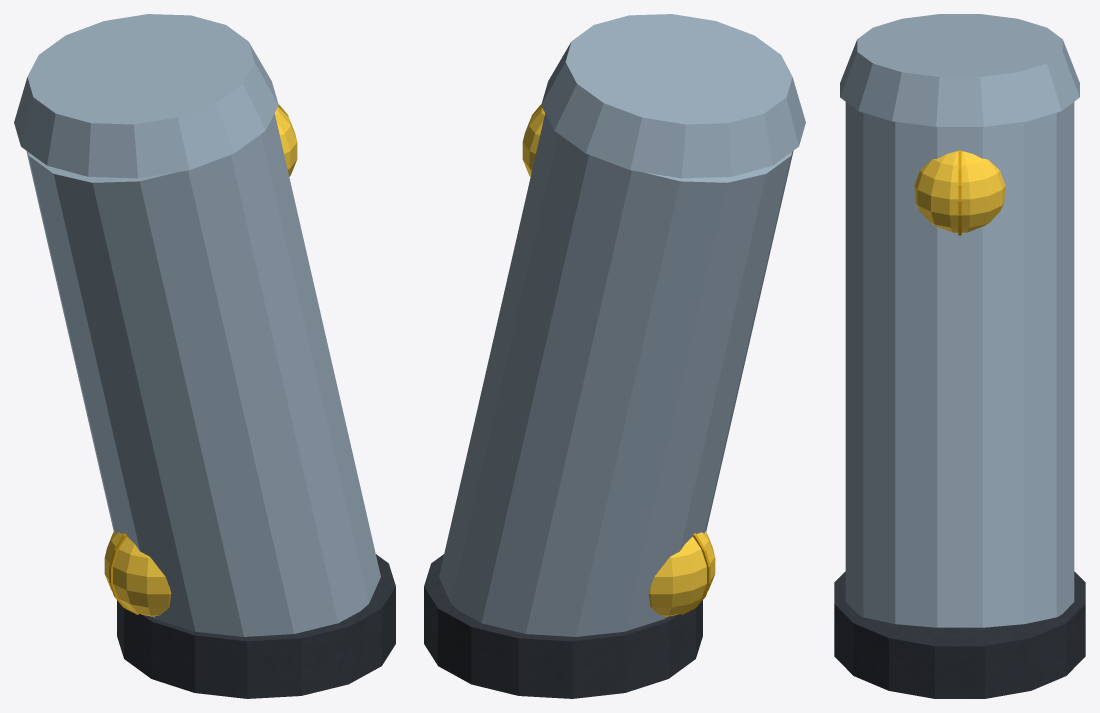
Rendered from hopper_pod_v2.glb.
The picture shows the model from 3 angles, left to right: view 1: azimuth 30°, elevation 25°; view 2: azimuth 150°, elevation 25°; view 3: azimuth 270°, elevation 25°; orthographic projection. The views are drawn at different scales.
Parts seen in each view (by area): view 1: hopper_pod_mesh, paintball_00, paintball_04; view 2: hopper_pod_mesh, paintball_00, paintball_04; view 3: hopper_pod_mesh, paintball_04.
Boxes of the visible parts, bbox=[...] form: hopper_pod_mesh: bbox=[14, 14, 395, 698]; paintball_00: bbox=[104, 531, 171, 616]; paintball_04: bbox=[274, 104, 297, 176]; hopper_pod_mesh: bbox=[424, 14, 805, 698]; paintball_00: bbox=[648, 531, 715, 616]; paintball_04: bbox=[522, 104, 545, 176]; hopper_pod_mesh: bbox=[834, 14, 1085, 698]; paintball_04: bbox=[914, 150, 1005, 235].
Size of the model in its own units: 0.062 by 0.1062 by 0.0432.
Materials: 4 (1 with a texture image).
